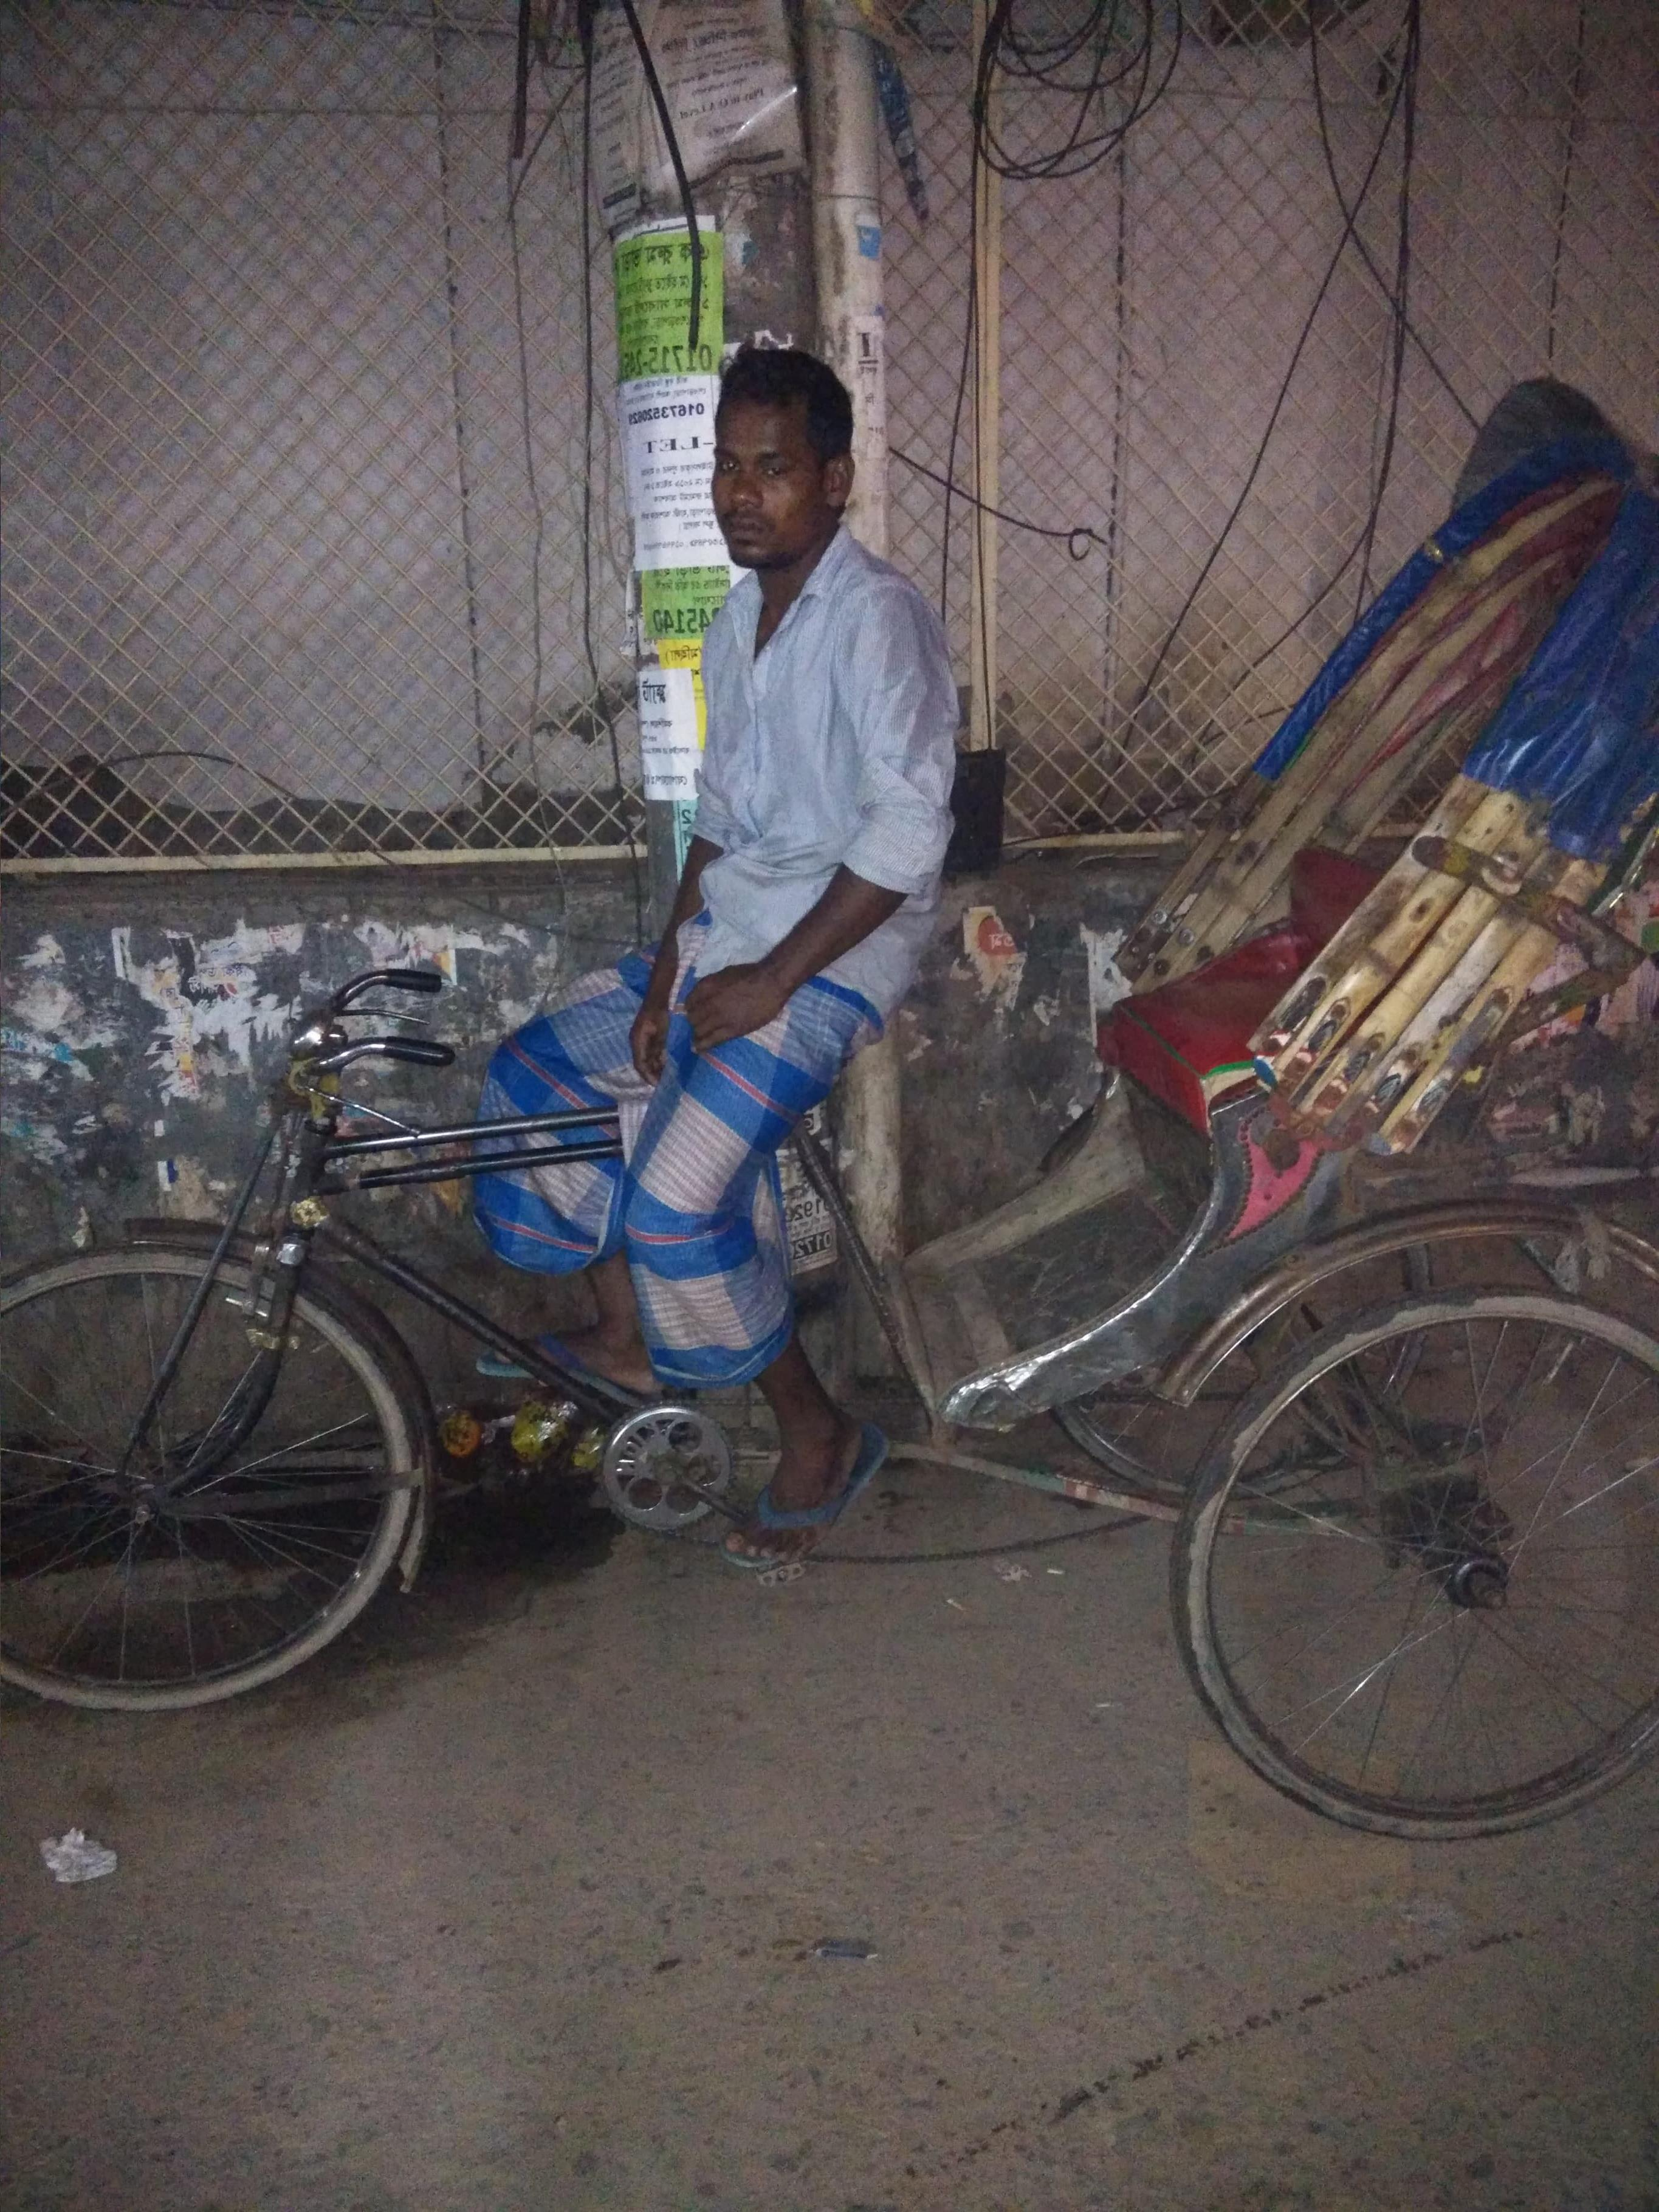Rickshaw: (14, 263, 1657, 1857)
